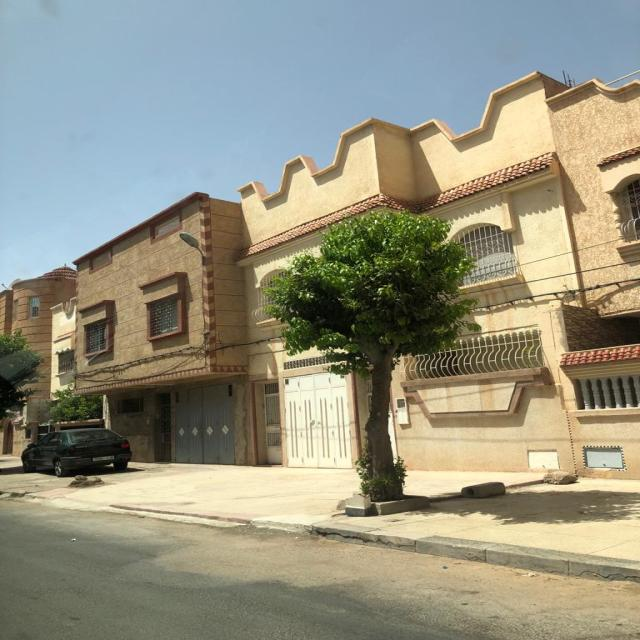Car: (20, 429, 132, 477)
Tree: (266, 209, 479, 502)
